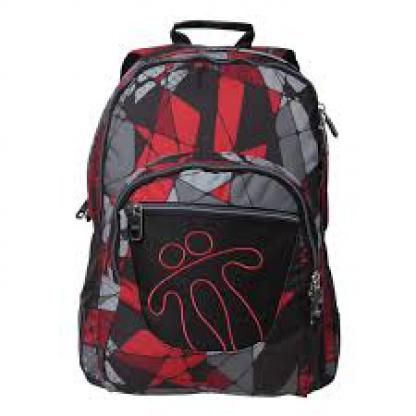morral: (57, 9, 372, 407)
